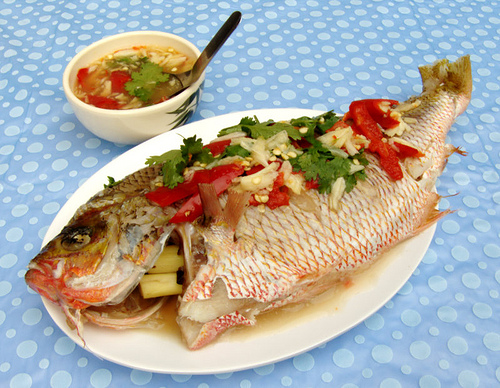fish: (23, 56, 473, 350)
